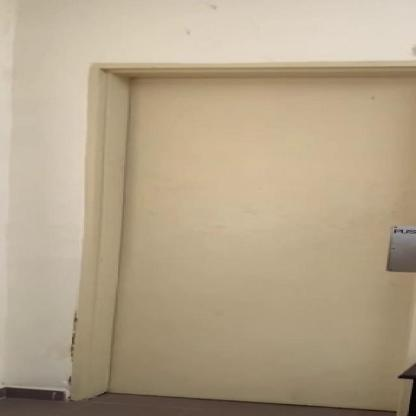door: (87, 59, 416, 416)
